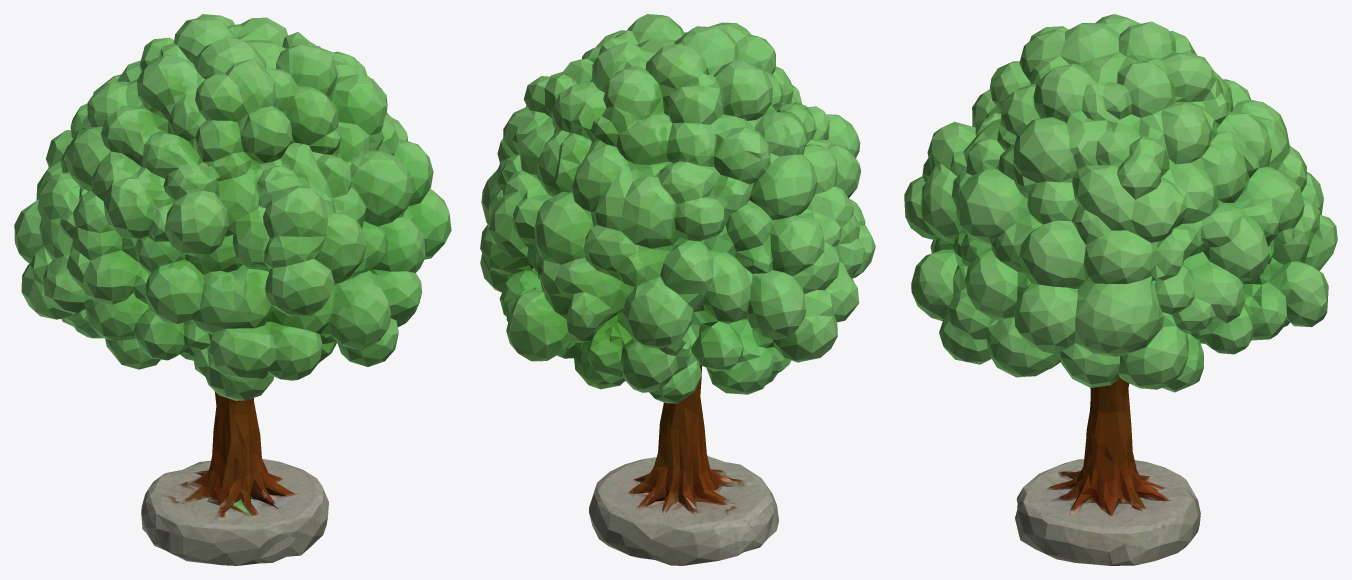
File: fantasy_tree_10.glb
3 views of the same model, side by side, from view 1: azimuth 30°, elevation 25°; view 2: azimuth 150°, elevation 25°; view 3: azimuth 270°, elevation 25° (orthographic).
Size of the model in its own units: 1.54 by 1.97 by 1.55.
1 material, 1 textured.
